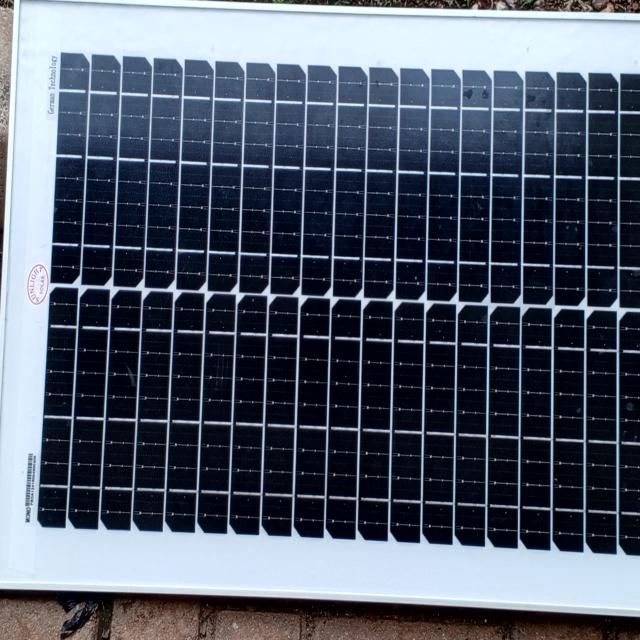Clean: (37, 18, 640, 582)
